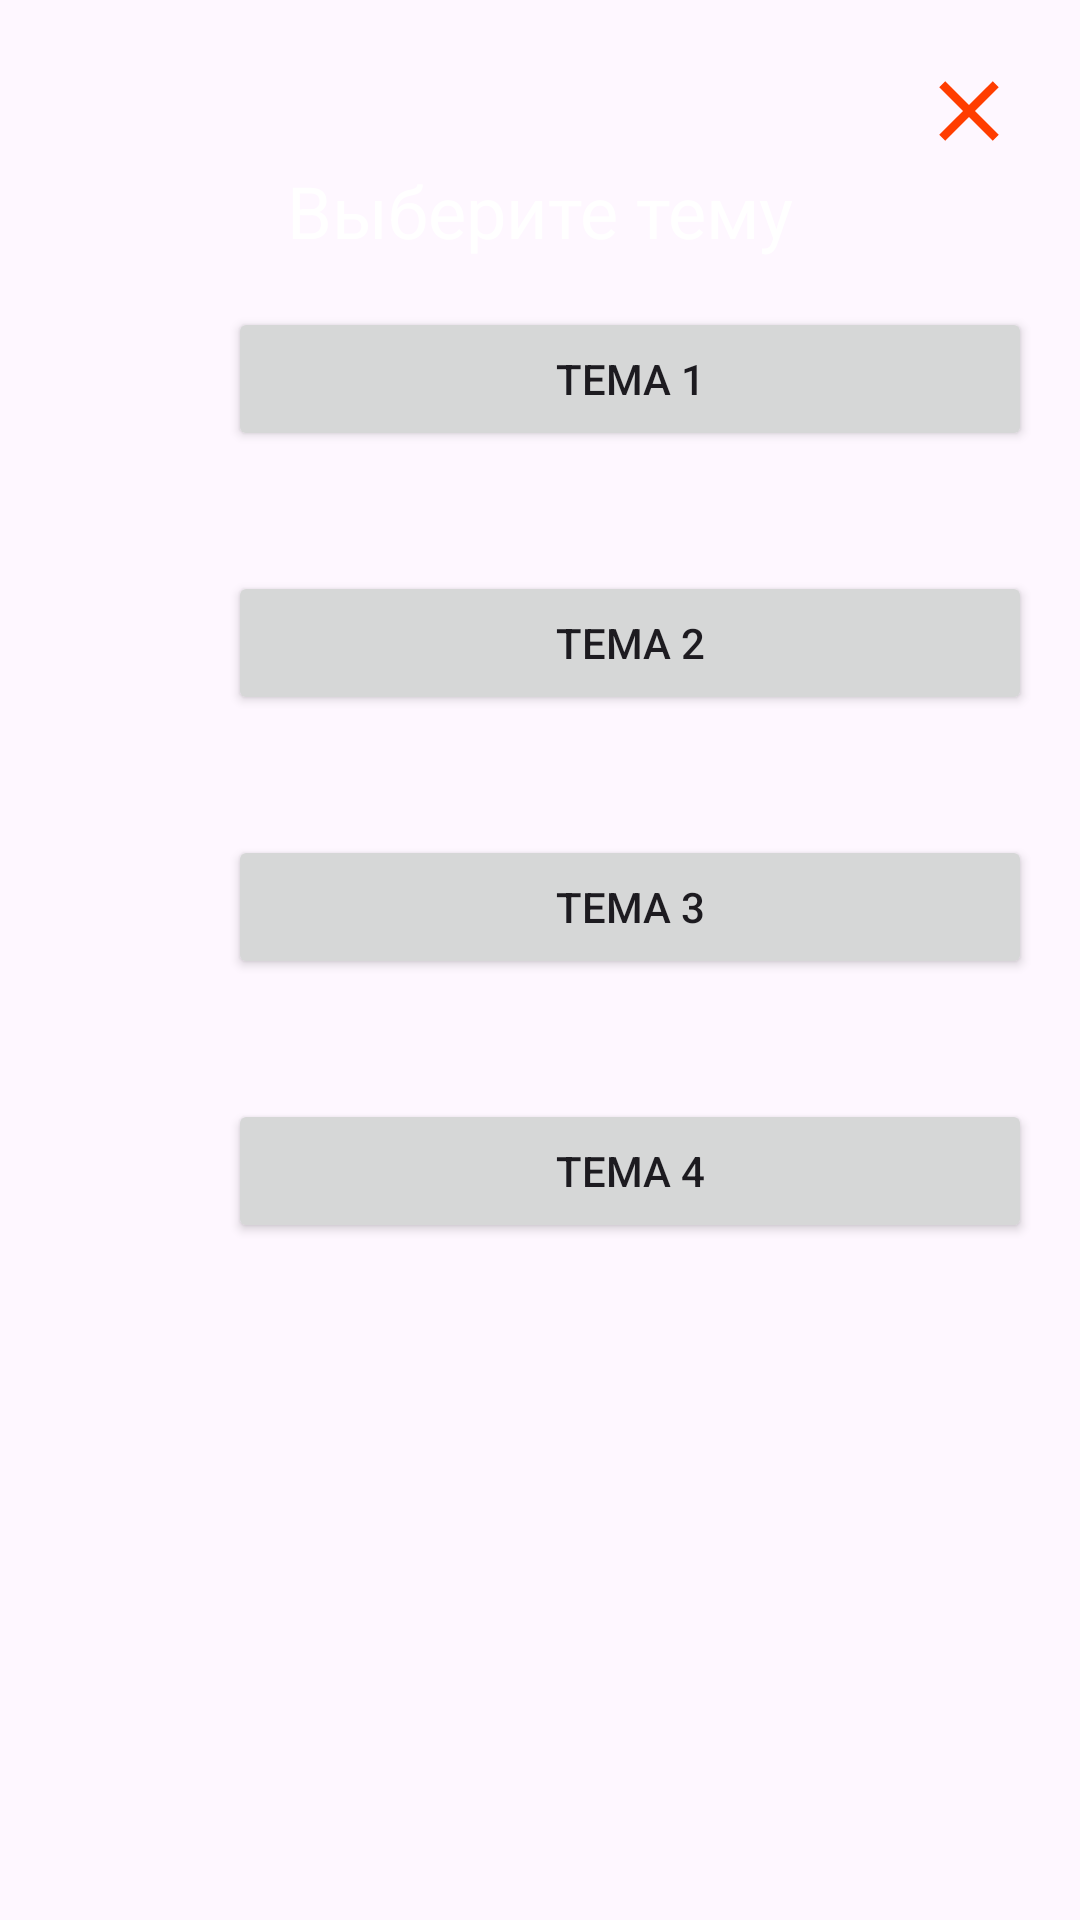

Screen size 1080 × 1920. Icon name, then its center in pixels as (x=x, y=y):
Закрыть: (x=969, y=111)
